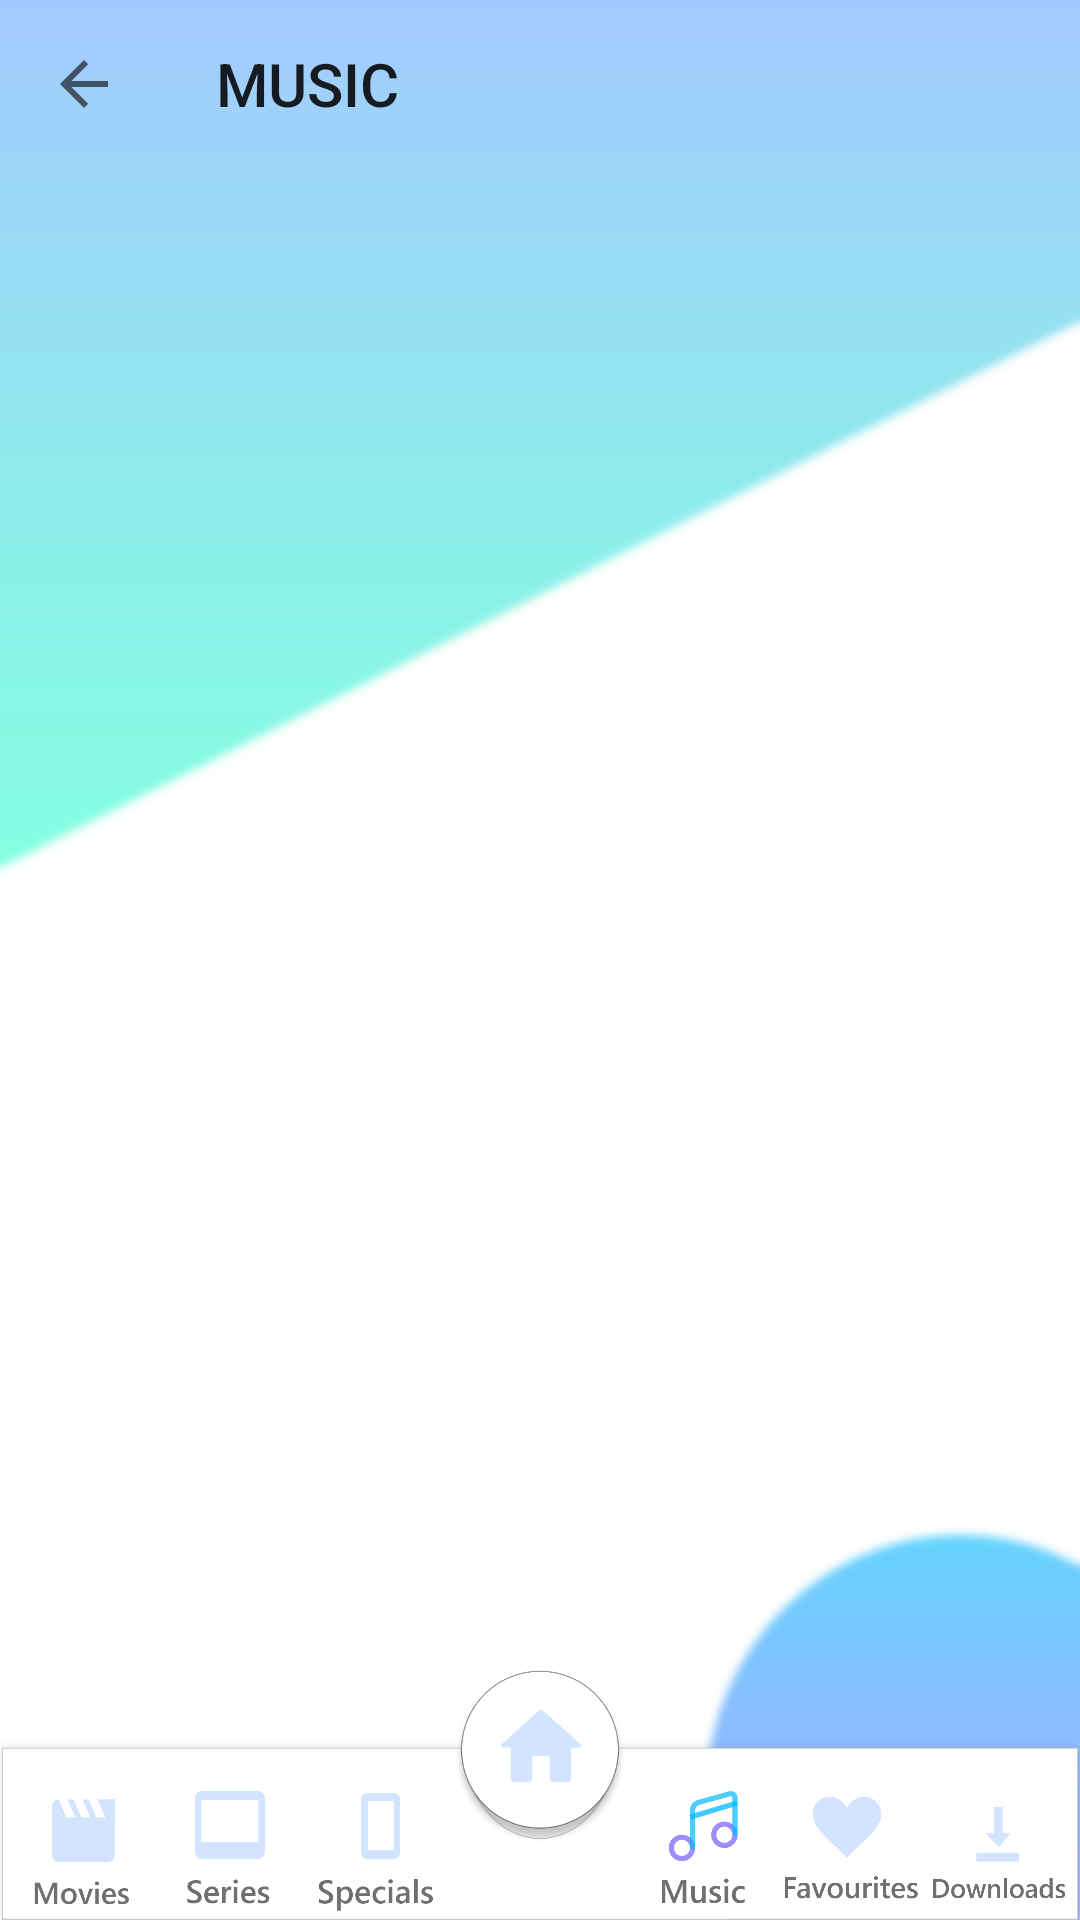

Icon bounding boxes for this 1080×1920 phone screenshot, format bbox(x1, y1, x2, y2):
home: bbox(501, 1710, 581, 1782)
